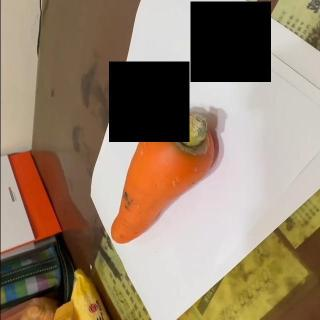carrot: (109, 108, 217, 244)
